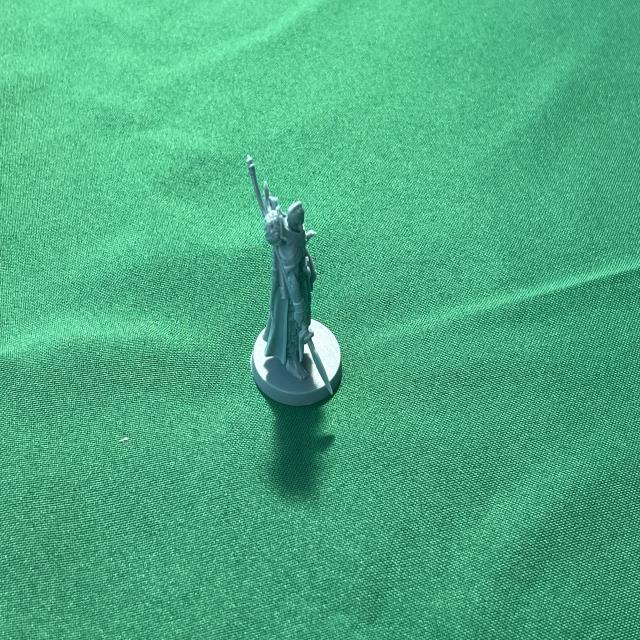isis_follower: (233, 150, 352, 414)
